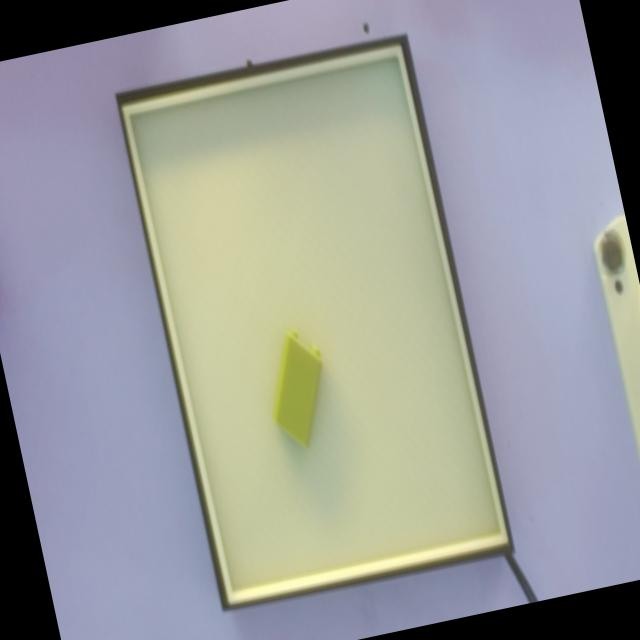bateria: (271, 327, 323, 448)
mesa: (114, 33, 514, 610)
